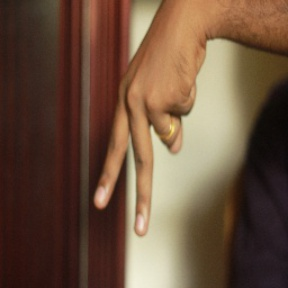Y: (90, 45, 212, 236)
